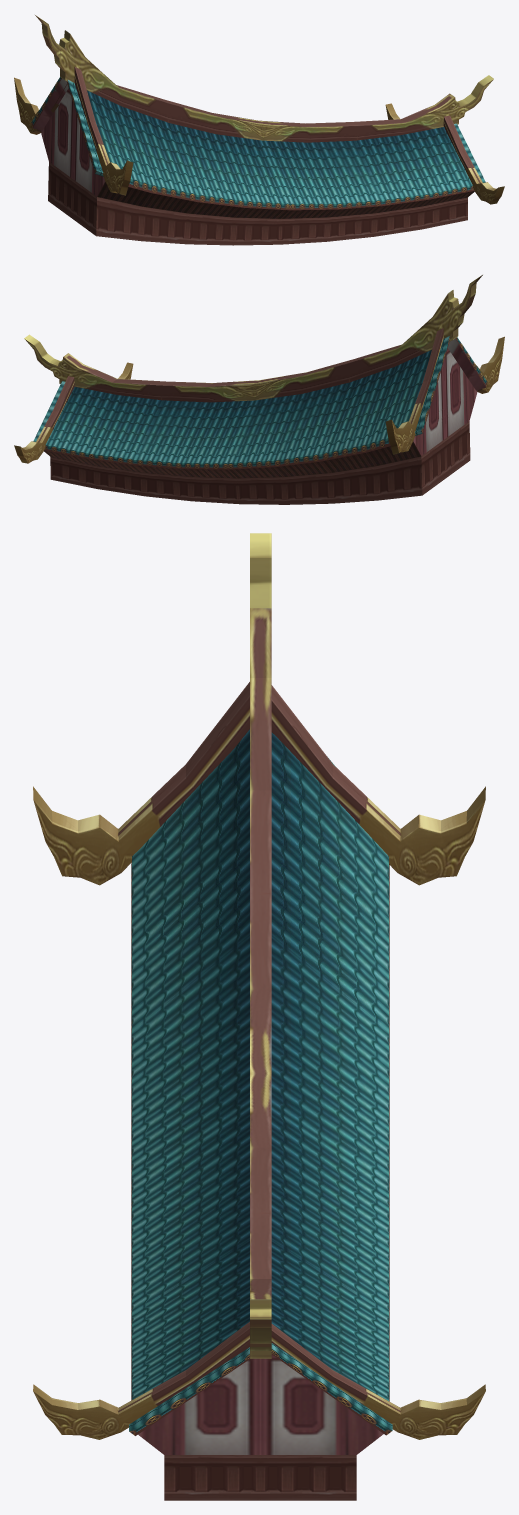
Rendered from W3_HD_GongHuiBoss_zhuangshi_07_01_D.FBX.
3 views of the same model, one above another, from view 1: azimuth 30°, elevation 25°; view 2: azimuth 150°, elevation 25°; view 3: azimuth 270°, elevation 25° (orthographic). The views are drawn at different scales.
Parts seen in each view (by area): view 1: W3_HD_GongHuiBoss_zhuangshi_07_01_D; view 2: W3_HD_GongHuiBoss_zhuangshi_07_01_D; view 3: W3_HD_GongHuiBoss_zhuangshi_07_01_D.
Boxes of the visible parts, x1,y1,x2,y2 form: W3_HD_GongHuiBoss_zhuangshi_07_01_D: (14,15,504,245); W3_HD_GongHuiBoss_zhuangshi_07_01_D: (14,275,504,504); W3_HD_GongHuiBoss_zhuangshi_07_01_D: (33,533,485,1500).
Size of the model in its own units: 35.64 by 21.39 by 15.38.
